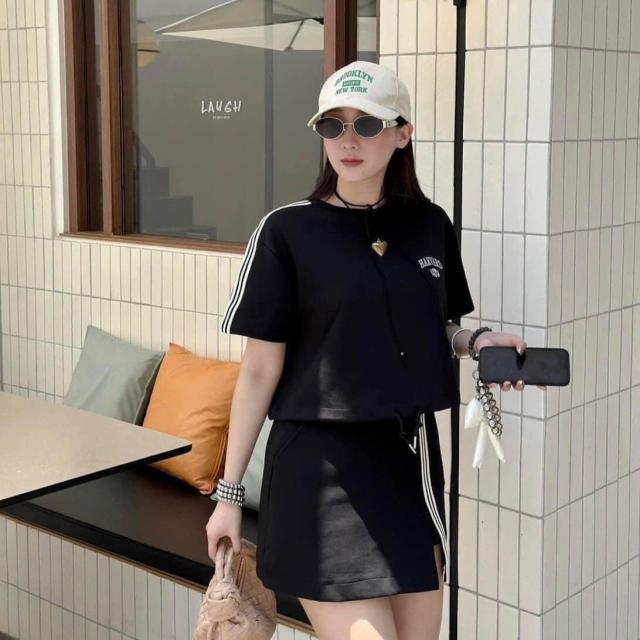no_helmet: (297, 56, 424, 133)
